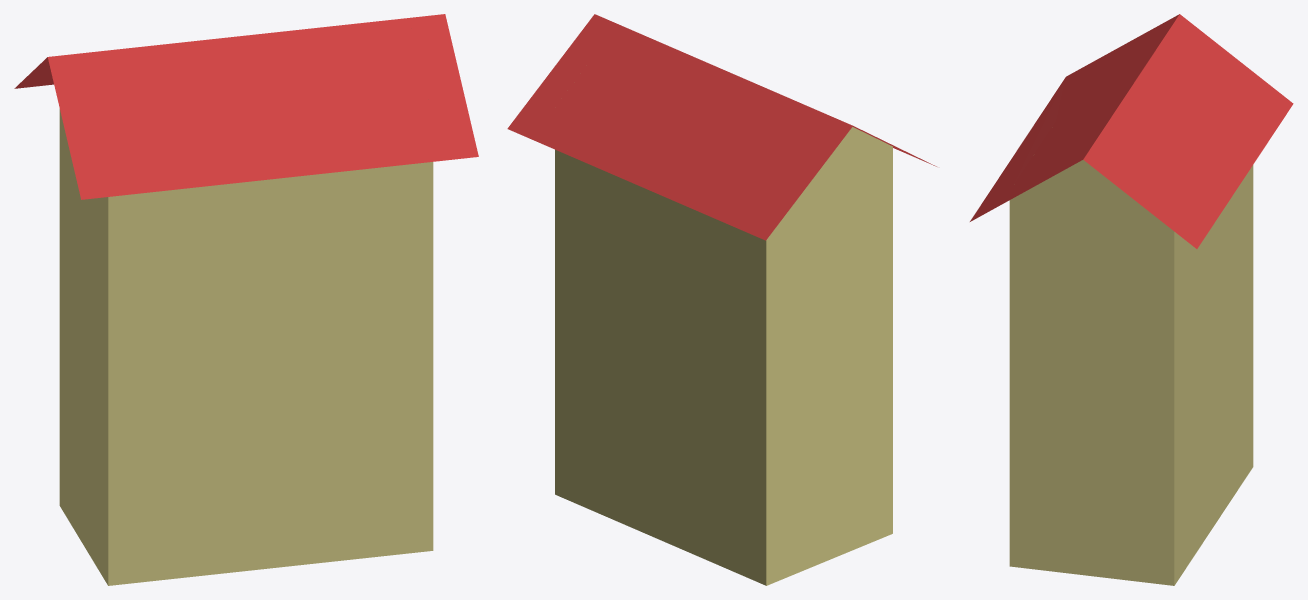
3 views of the same model, side by side, from view 1: azimuth 30°, elevation 25°; view 2: azimuth 150°, elevation 25°; view 3: azimuth 270°, elevation 25° (orthographic). The views are drawn at different scales.
Bounding box in the file's own units: 6.25 × 4.96 × 7.26.
